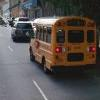Bus: (27, 14, 90, 76)
